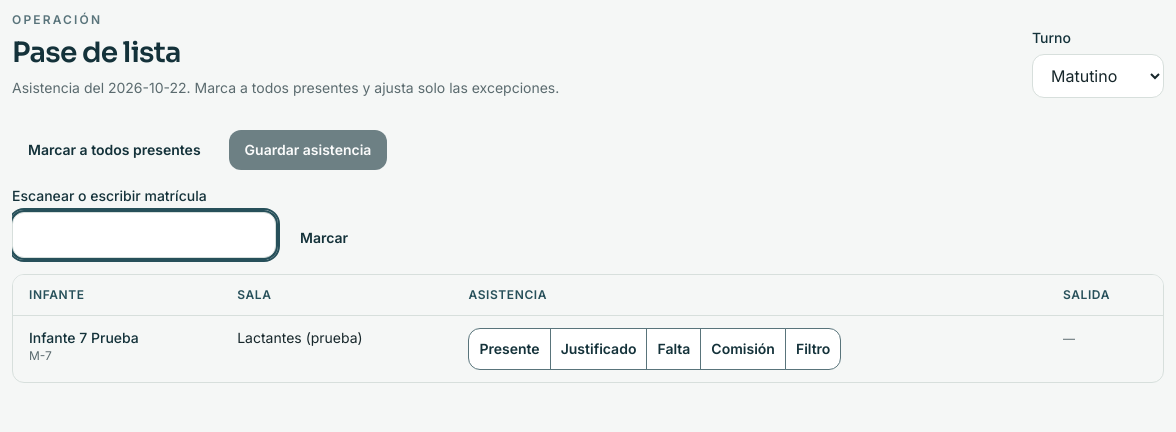
escaneo en el pase de lista (RF-13) › ignora mayúsculas y espacios alrededor de la matrícula
Type "  m-7  " into the field labelled "Escanear o escribir matrícula".
click(144, 235); type("  m-7  ")  # box [12,212,276,258]
Then press Enter
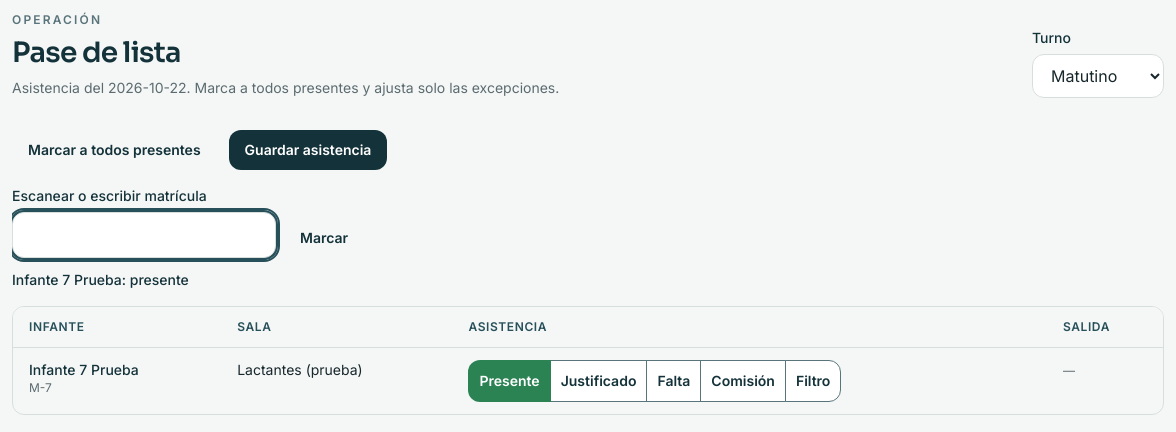
Check: the message reads "Infante 7 Prueba: presente", box [12,271,189,288]
